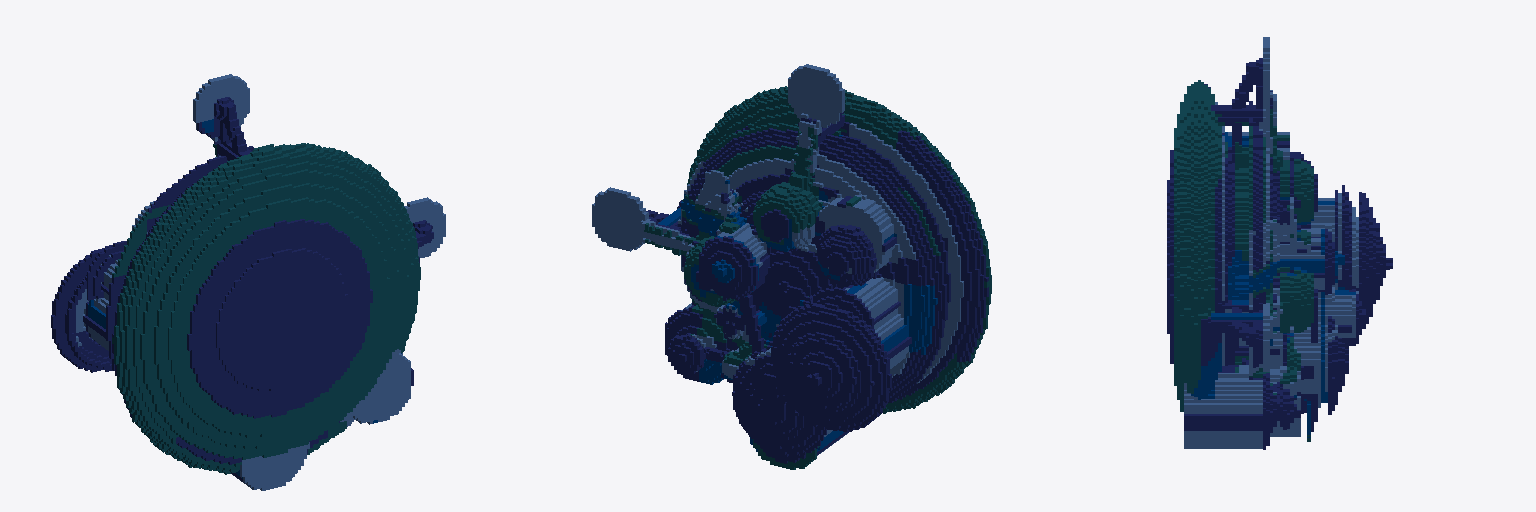
3 views of the same model, side by side, from view 1: azimuth 30°, elevation 25°; view 2: azimuth 150°, elevation 25°; view 3: azimuth 270°, elevation 25° (orthographic).
Parts seen in each view (by area): view 1: object 1; view 2: object 1; view 3: object 1.
Part boxes in pixels (left/top/right/bottom): object 1: left=51, top=74, right=445, bottom=490; object 1: left=592, top=64, right=991, bottom=469; object 1: left=1167, top=37, right=1392, bottom=449.
Size of the model in its own units: 12.2 by 12.4 by 6.6.
Materials: 1 (1 with a texture image).